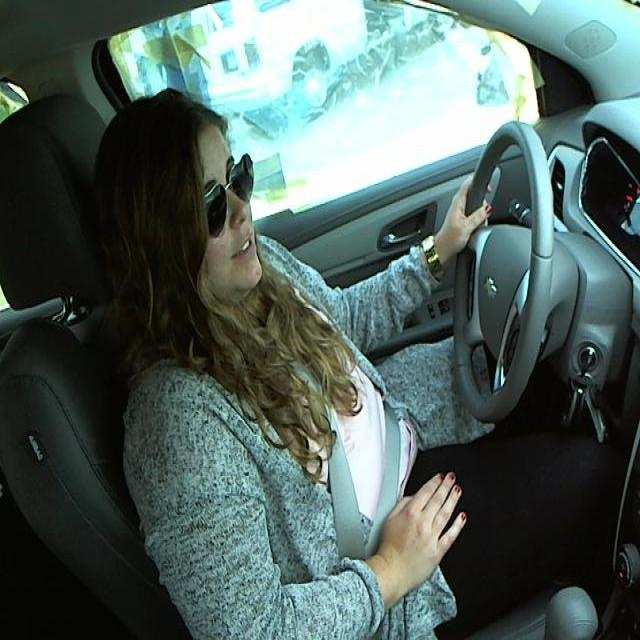seatbelt: (286, 364, 405, 552)
